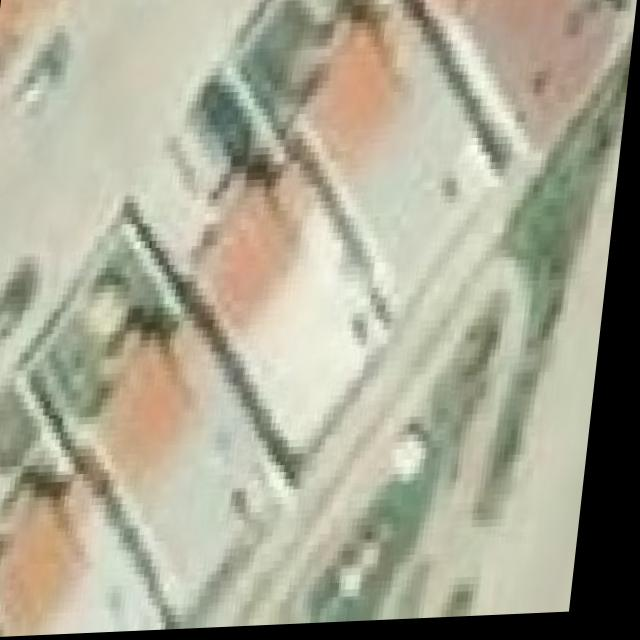Batiment: (127, 142, 395, 491), (288, 0, 517, 323), (62, 324, 305, 624), (432, 0, 627, 155)
